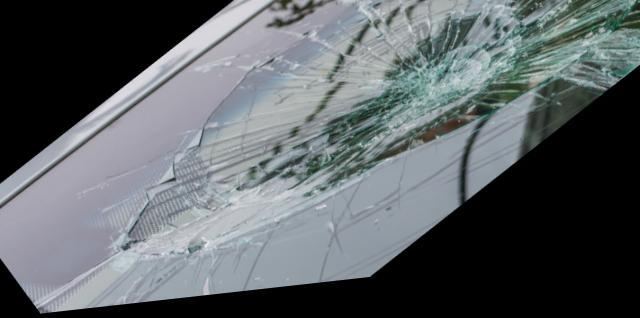glass shatter: (0, 0, 640, 314)
